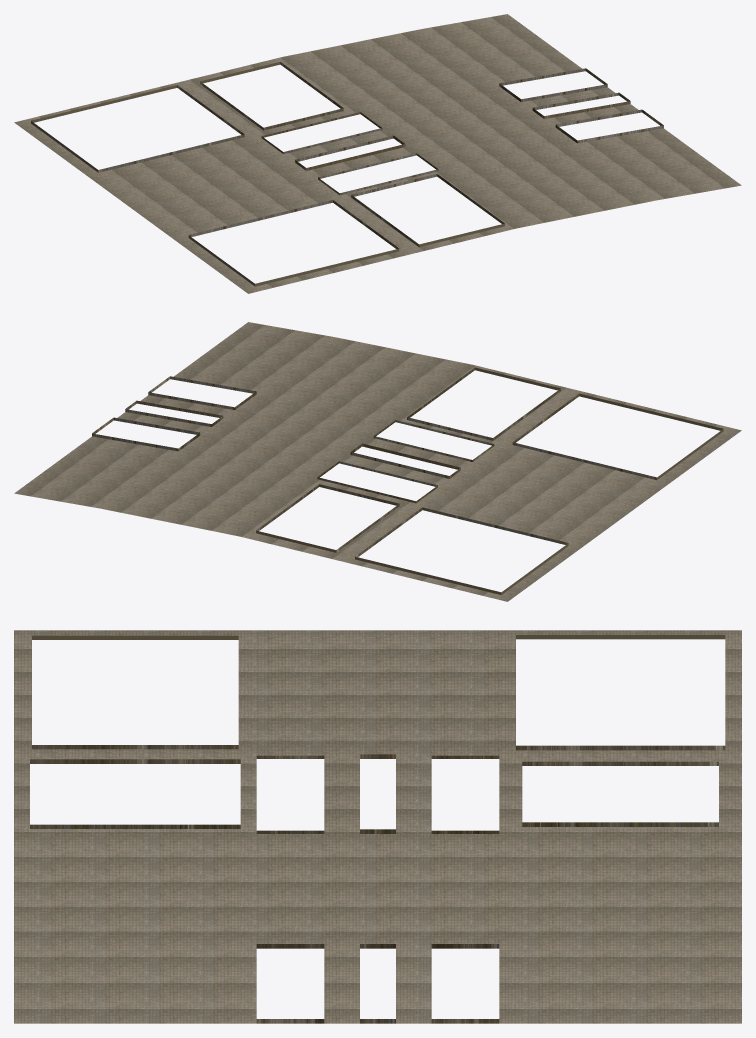
Rendered from ground_1.mtl.obj.
3 views of the same model, one above another, from view 1: azimuth 30°, elevation 25°; view 2: azimuth 150°, elevation 25°; view 3: azimuth 270°, elevation 25° (orthographic). The views are drawn at different scales.
Parts seen in each view (by area): view 1: square.001_Plane.001; view 2: square.001_Plane.001; view 3: square.001_Plane.001.
Boxes of the visible parts, bbox=[...] form: square.001_Plane.001: bbox=[14, 14, 741, 293]; square.001_Plane.001: bbox=[14, 322, 741, 601]; square.001_Plane.001: bbox=[14, 630, 741, 1023].
Bounding box in the file's own units: 17.15 × 0.4991 × 14.09.
